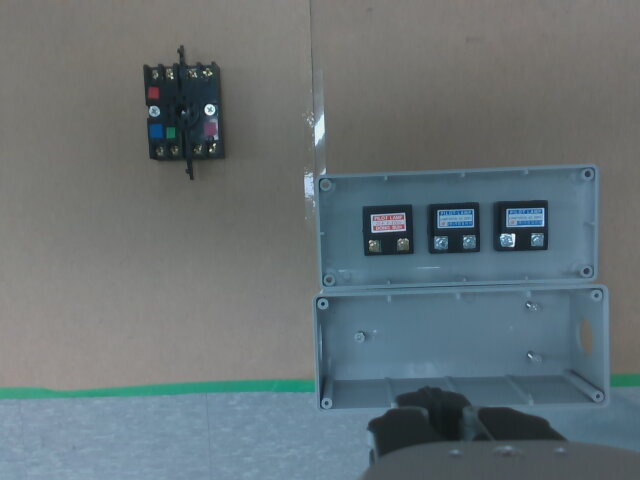L1(1): (368, 239, 381, 252)
L1(2): (396, 238, 409, 251)
L2(1): (434, 236, 448, 249)
L2(2): (462, 235, 476, 249)
L3(1): (501, 233, 515, 246)
L3(2): (530, 233, 545, 245)
